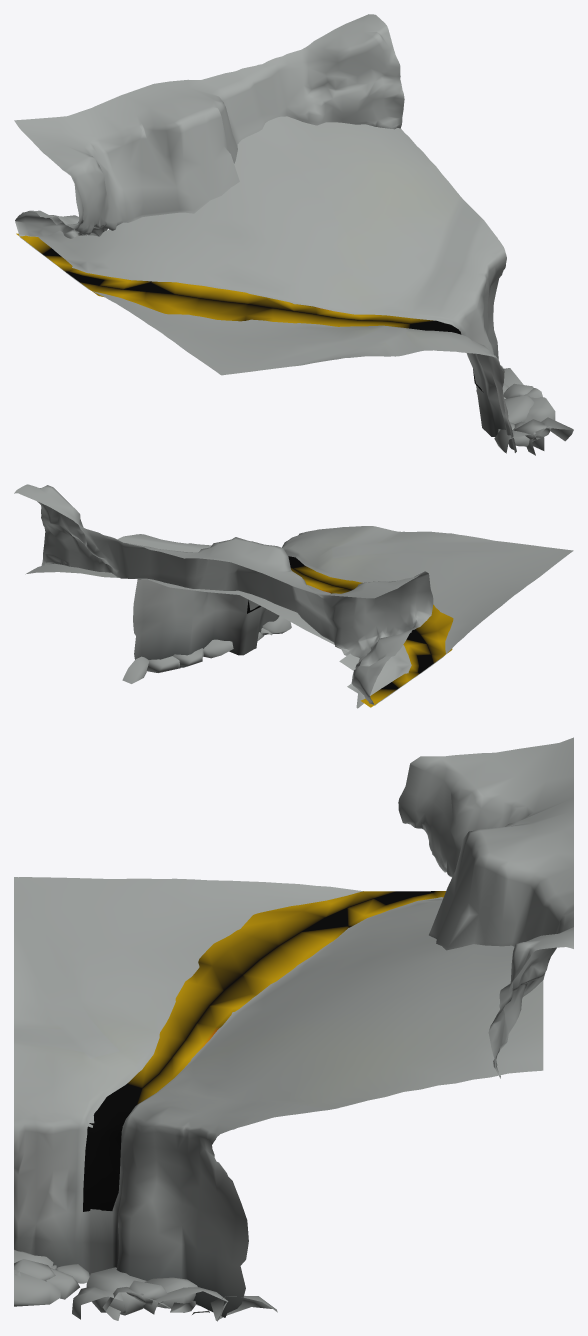
3 renders of one model, top to bottom at view 1: azimuth 30°, elevation 25°; view 2: azimuth 150°, elevation 25°; view 3: azimuth 270°, elevation 25°, orthographic. The views are drawn at different scales.
Visible parts, largest first — view 1: G:\FFXIV-MapTools\exports\s1f2\bg\ffxiv\sea_s1\fld\s1f2\bgpl (×19); view 2: G:\FFXIV-MapTools\exports\s1f2\bg\ffxiv\sea_s1\fld\s1f2\bgpl (×17); view 3: G:\FFXIV-MapTools\exports\s1f2\bg\ffxiv\sea_s1\fld\s1f2\bgpl (×17).
Boxes of the visible parts, x1,y1,x2,y2 form: G:\FFXIV-MapTools\exports\s1f2\bg\ffxiv\sea_s1\fld\s1f2\bgpl (×19): (14, 14, 573, 455); G:\FFXIV-MapTools\exports\s1f2\bg\ffxiv\sea_s1\fld\s1f2\bgpl (×17): (14, 484, 573, 708); G:\FFXIV-MapTools\exports\s1f2\bg\ffxiv\sea_s1\fld\s1f2\bgpl (×17): (14, 737, 573, 1321).
Size of the model in its own units: 128 by 95.6 by 128.
